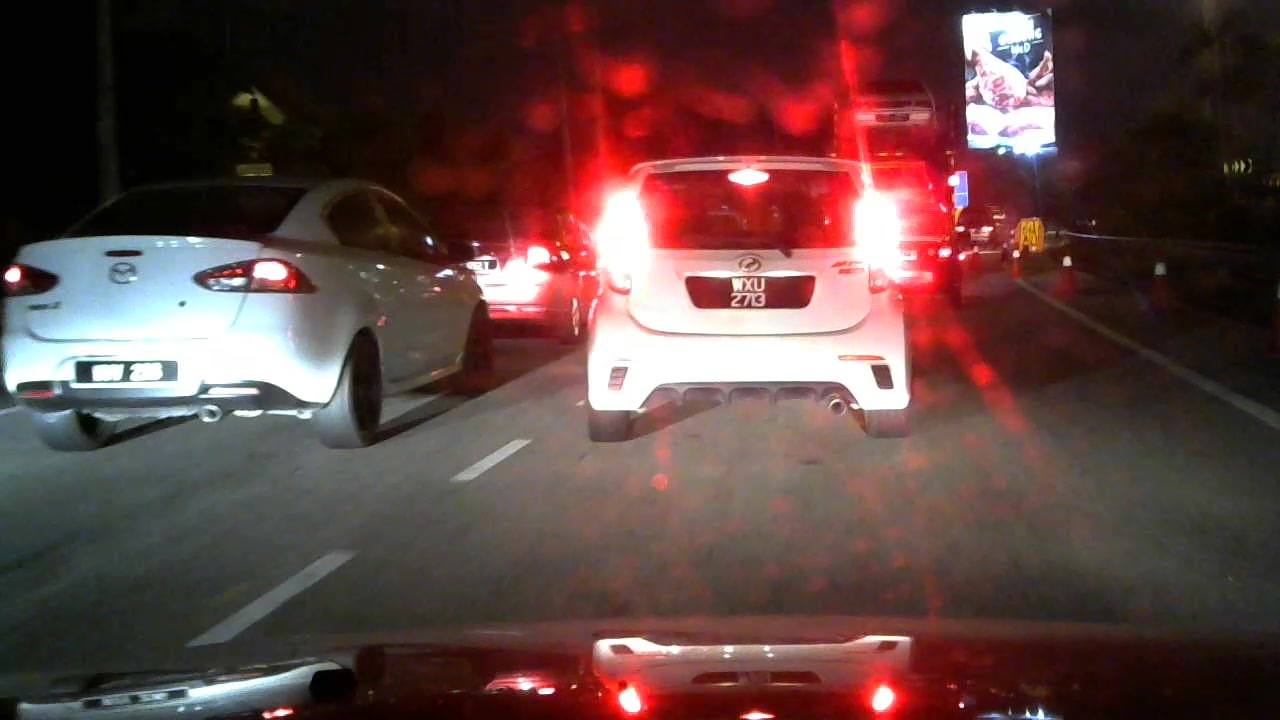Car: (23, 172, 505, 434), (563, 143, 913, 460), (460, 190, 591, 349), (893, 197, 973, 307)
